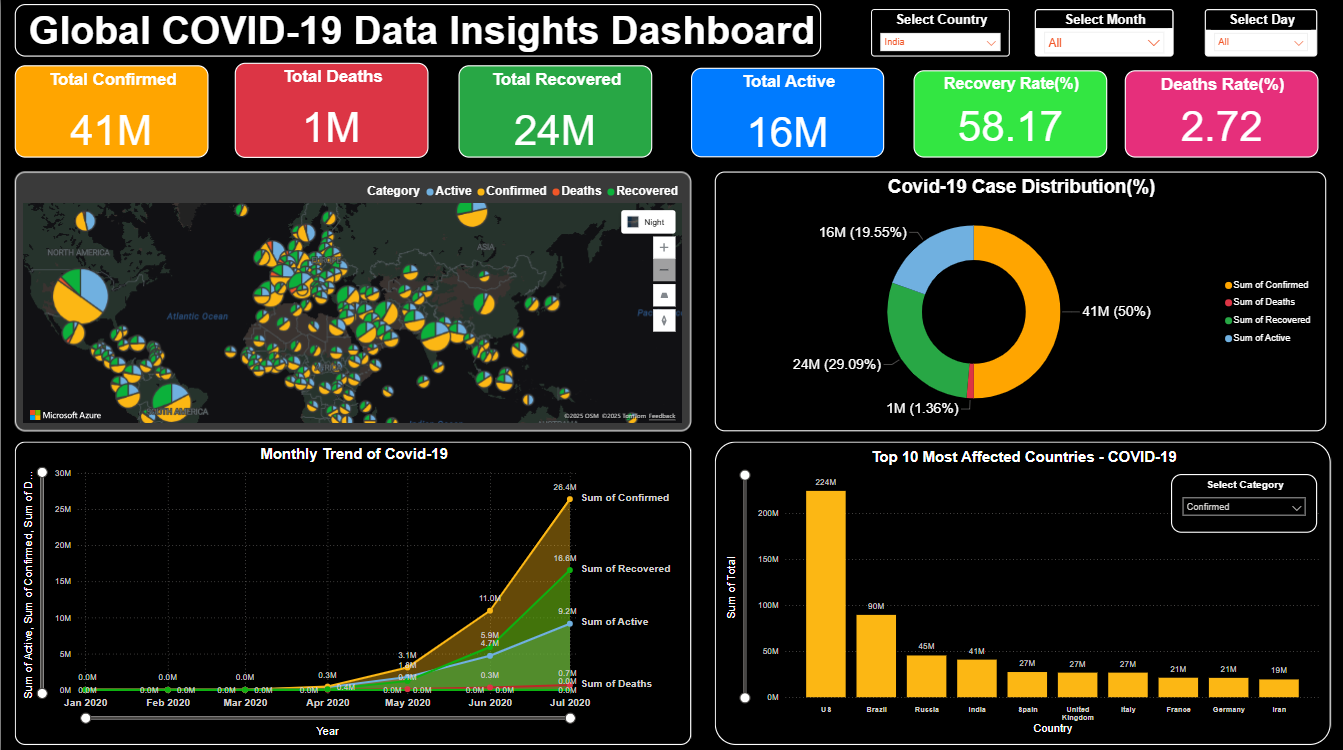

This screenshot's page, from the dashboard's own definition file:
{"tool":"powerbi","page":{"name":"Page 1","canvas":[1920,1080],"ordinal":0},"visuals":[{"type":"slicer","title":"Select Country","fields":{"Values":["samarth_csv.Country/Region"]},"box":[1242.9,14.3,198.2,67.9],"z":0},{"type":"slicer","title":" Select Month","fields":{"Values":["samarth_csv.MonthNumber"]},"box":[1476.8,14.3,198.2,67.9],"z":1000},{"type":"cardVisual","title":" Total Confirmed","fields":{"Data":["Sum(samarth_csv.Confirmed)"]},"box":[19.6,94.6,276.8,132.1],"z":2000},{"type":"cardVisual","title":"Total Deaths","fields":{"Data":["Sum(samarth_csv.Deaths)"]},"box":[333.9,91.1,276.8,135.7],"z":3000},{"type":"cardVisual","title":"Total Active","fields":{"Data":["Sum(samarth_csv.Active)"]},"box":[985.7,98.2,276,128],"z":4000},{"type":"cardVisual","title":"Total Recovered","fields":{"Data":["Sum(samarth_csv.Recovered)"]},"box":[653.6,94.6,276.8,132.1],"z":5000},{"type":"donutChart","title":"Covid-19 Case Distribution(%)","fields":{"Y":["Sum(samarth_csv.Confirmed)","Sum(samarth_csv.Deaths)","Sum(samarth_csv.Recovered)","Sum(samarth_csv.Total Active)"]},"box":[1019.6,246.4,873.2,371.4],"z":6000},{"type":"slicer","title":" Select Day","fields":{"Values":["samarth_csv.Date.Variation.Date Hierarchy.Day"]},"box":[1719.7,14.3,160.7,67.9],"z":7000},{"type":"card","title":"Recovery Rate(%)","fields":{"Values":["samarth_csv.Recovery Rate (%)"]},"box":[1303.6,101.8,276.8,125],"z":8000},{"type":"card","title":"Deaths Rate(%)","fields":{"Values":["samarth_csv.Deaths Rate (%)"]},"box":[1605.4,101.8,276.8,125],"z":9000},{"type":"columnChart","title":"Top 10 Most Affected Countries - COVID-19","fields":{"Category":["Top10_All_Categories.Country"],"Series":["Top10_All_Categories.Category"],"Y":["Sum(Top10_All_Categories.Total)"]},"box":[1019.6,632.1,880.4,433.9],"z":10000},{"type":"slicer","title":"Select Category","fields":{"Values":["Top10_All_Categories.Category"]},"box":[1671.4,678.6,208.9,83.9],"z":11000},{"type":"lineChart","title":"Monthly Trend of Covid-19","fields":{"Y":["Sum(samarth_csv.Active)","Sum(samarth_csv.Confirmed)","Sum(samarth_csv.Deaths)","Sum(samarth_csv.Recovered)","samarth_csv.Deaths Rate (%)","samarth_csv.Recovery Rate (%)"],"Category":["samarth_csv.Date.Variation.Date Hierarchy.Year","samarth_csv.Date.Variation.Date Hierarchy.Month"]},"box":[19.6,632.1,966.1,433.9],"z":12000},{"type":"azureMap","fields":{"Category":["Covid_Unpivot.Country"],"Size":["Sum(Covid_Unpivot.Total Cases)"],"Series":["Covid_Unpivot.Category"]},"box":[19.6,246.4,966.1,371.4],"z":13000},{"type":"textbox","title":"Global COVID-19 Data Insights Dashboard","box":[19.6,7.1,1151.8,75],"z":14000}]}

Visuals, with their boxes in screenshot pixels (x1, y1, x2, y2), scaled from the page's 1920x1080 canvas onto the 1343x750 screenshot:
"Select Country" slicer: 869 10 1008 57
" Select Month" slicer: 1033 10 1172 57
" Total Confirmed" cardVisual: 14 66 207 157
"Total Deaths" cardVisual: 234 63 427 157
"Total Active" cardVisual: 689 68 883 157
"Total Recovered" cardVisual: 457 66 651 157
"Covid-19 Case Distribution(%)" donutChart: 713 171 1324 429
" Select Day" slicer: 1203 10 1315 57
"Recovery Rate(%)" card: 912 71 1105 158
"Deaths Rate(%)" card: 1123 71 1317 158
"Top 10 Most Affected Countries - COVID-19" columnChart: 713 439 1329 740
"Select Category" slicer: 1169 471 1315 530
"Monthly Trend of Covid-19" lineChart: 14 439 689 740
azureMap - Covid_Unpivot.Country x Sum(Covid_Unpivot.Total Cases): 14 171 689 429
"Global COVID-19 Data Insights Dashboard" textbox: 14 5 819 57
